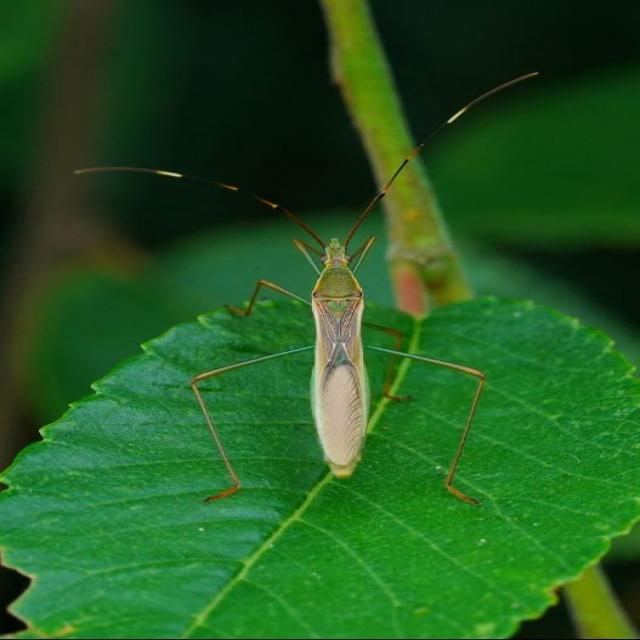walang sangit pada tanaman padi: (70, 68, 543, 510)
